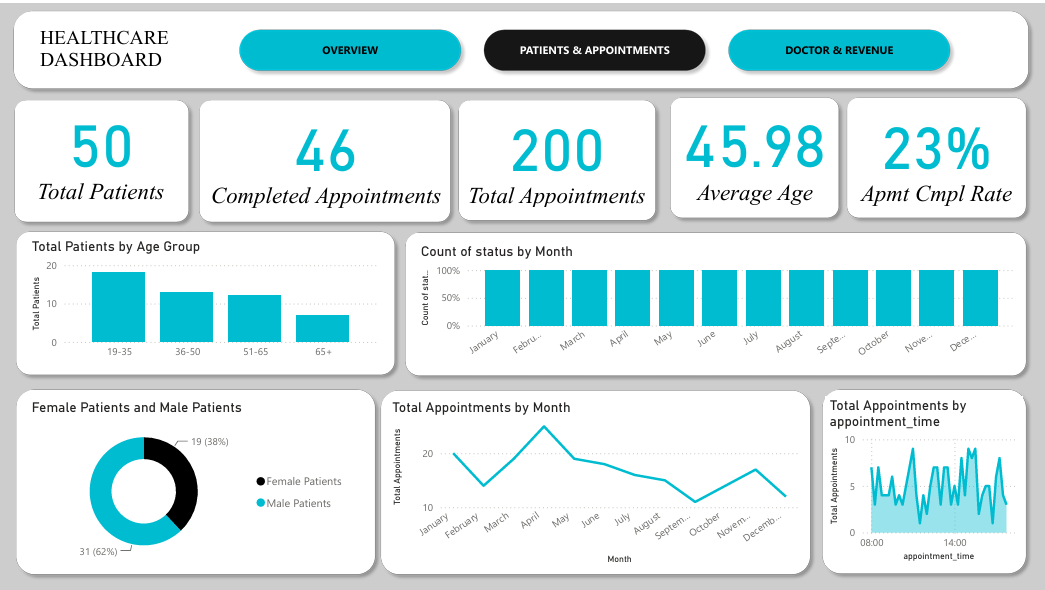

The dashboard page shown, as its layout file describes it:
{"tool":"powerbi","page":{"name":"PATIENTS & APPOINTMENTS","canvas":[1280,720],"ordinal":1},"visuals":[{"type":"shape","box":[7.2,0.4,1258.3,112.5],"z":0},{"type":"textbox","box":[43.5,22.6,194.3,68.6],"z":1000},{"type":"pageNavigator","box":[283.5,22.6,888.6,68.6],"z":2000},{"type":"shape","box":[7.8,108.8,231.4,167.1],"z":3000},{"type":"card","fields":{"Values":["all_measures.Total Patirnts"]},"box":[33.5,113.1,178.6,132.9],"z":4000},{"type":"shape","box":[234.3,108.6,324.3,167.1],"z":5000},{"type":"shape","box":[551.4,108.6,258.6,165.7],"z":6000},{"type":"shape","box":[1025.7,105.7,237.1,165.7],"z":7000},{"type":"card","fields":{"Values":["all_measures.Completed Appointments"]},"box":[250,108.6,295.7,150],"z":8000},{"type":"card","fields":{"Values":["all_measures.Total Appointments"]},"box":[558.6,115.7,242.9,137.1],"z":9000},{"type":"card","fields":{"Values":["all_measures.Apmt Cmpl Rate"]},"box":[1042.9,111.4,202.9,141.4],"z":10000},{"type":"shape","box":[10,270,481.4,192.9],"z":11000},{"type":"shape","box":[810,105.7,224.3,165.7],"z":12000},{"type":"card","fields":{"Values":["all_measures.Average Patient Age"]},"box":[821.4,101.4,202.9,157.1],"z":13000},{"type":"clusteredColumnChart","fields":{"Category":["patients.Age Group"],"Y":["all_measures.Total Patients"]},"box":[32.9,287.1,434.3,157.1],"z":14000},{"type":"shape","box":[10,462.9,457.1,244.3],"z":15000},{"type":"donutChart","fields":{"Y":["all_measures.Female Patients","all_measures.Male Patients"]},"box":[32.9,484.3,398.6,205.7],"z":16000},{"type":"shape","box":[455.7,464.3,542.9,242.9],"z":17000},{"type":"lineChart","fields":{"Category":["appointments.appointment_date.Variation.Date Hierarchy.Month","appointments.appointment_date.Variation.Date Hierarchy.Day"],"Y":["all_measures.Total Appointments"]},"box":[474.3,484.3,505.7,205.7],"z":18000},{"type":"shape","box":[485.7,271.4,777.1,192.9],"z":19000},{"type":"hundredPercentStackedColumnChart","fields":{"Y":["CountNonNull(appointments.status)"],"Category":["appointments.appointment_date.Variation.Date Hierarchy.Month"]},"box":[508.6,292.9,737.1,151.4],"z":20000},{"type":"shape","box":[995.7,462.9,267.1,242.9],"z":21000},{"type":"stackedAreaChart","fields":{"Y":["all_measures.Total Appointments"],"Category":["appointments.appointment_time"]},"box":[1008.6,481.4,241.4,205.7],"z":22000}]}

Visuals, with their boxes in screenshot pixels (x1, y1, x2, y2), scaled from the page's 1280x720 canvas onto the 1045x590 screenshot:
shape: detection(6, 0, 1033, 93)
textbox: detection(36, 19, 194, 75)
pageNavigator: detection(231, 19, 957, 75)
shape: detection(6, 89, 195, 226)
card - all_measures.Total Patirnts: detection(27, 93, 173, 202)
shape: detection(191, 89, 456, 226)
shape: detection(450, 89, 661, 225)
shape: detection(837, 87, 1031, 222)
card - all_measures.Completed Appointments: detection(204, 89, 446, 212)
card - all_measures.Total Appointments: detection(456, 95, 654, 207)
card - all_measures.Apmt Cmpl Rate: detection(851, 91, 1017, 207)
shape: detection(8, 221, 401, 379)
shape: detection(661, 87, 844, 222)
card - all_measures.Average Patient Age: detection(671, 83, 836, 212)
clusteredColumnChart - patients.Age Group x all_measures.Total Patients: detection(27, 235, 381, 364)
shape: detection(8, 379, 381, 580)
donutChart - all_measures.Female Patients x all_measures.Male Patients: detection(27, 397, 352, 565)
shape: detection(372, 380, 815, 580)
lineChart - appointments.appointment_date.Variation.Date Hierarchy.Month x appointments.appointment_date.Variation.Date Hierarchy.Day: detection(387, 397, 800, 565)
shape: detection(397, 222, 1031, 380)
hundredPercentStackedColumnChart - CountNonNull(appointments.status) x appointments.appointment_date.Variation.Date Hierarchy.Month: detection(415, 240, 1017, 364)
shape: detection(813, 379, 1031, 578)
stackedAreaChart - all_measures.Total Appointments x appointments.appointment_time: detection(823, 394, 1021, 563)
